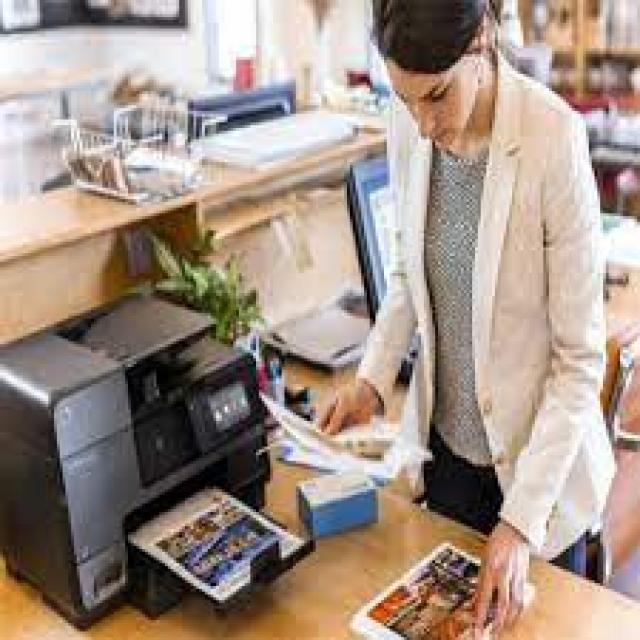printer: (0, 293, 270, 634)
